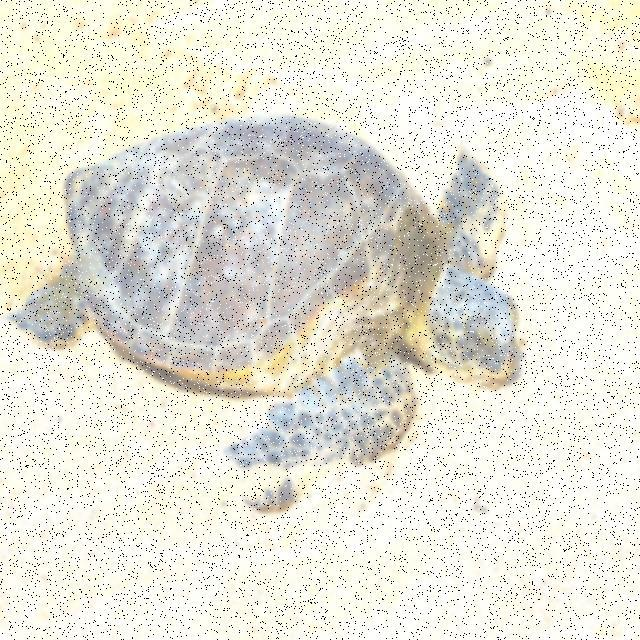tortoise: (7, 116, 559, 484)
